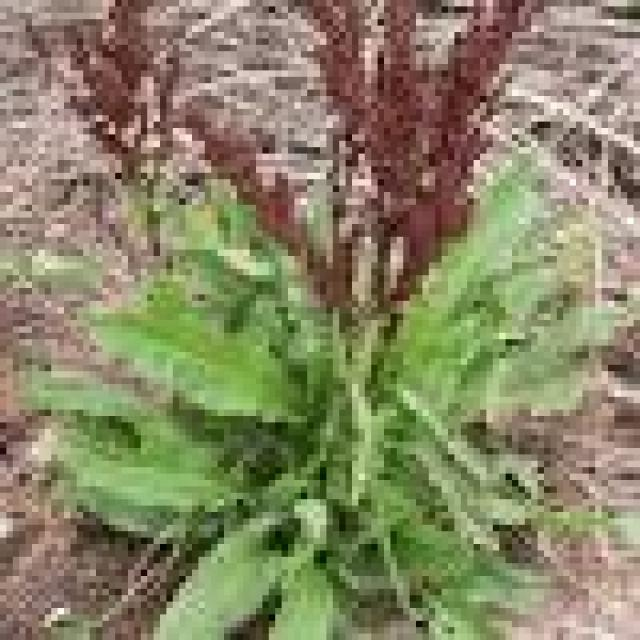organic waste: (57, 173, 640, 640)
